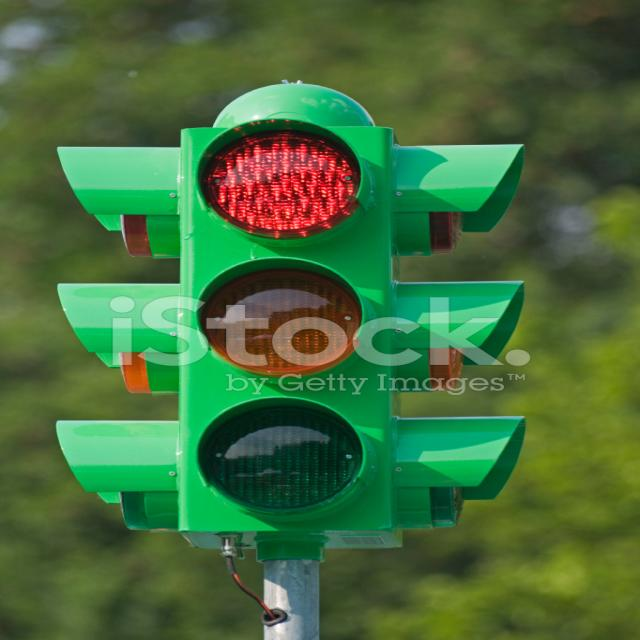red: (214, 116, 353, 252)
